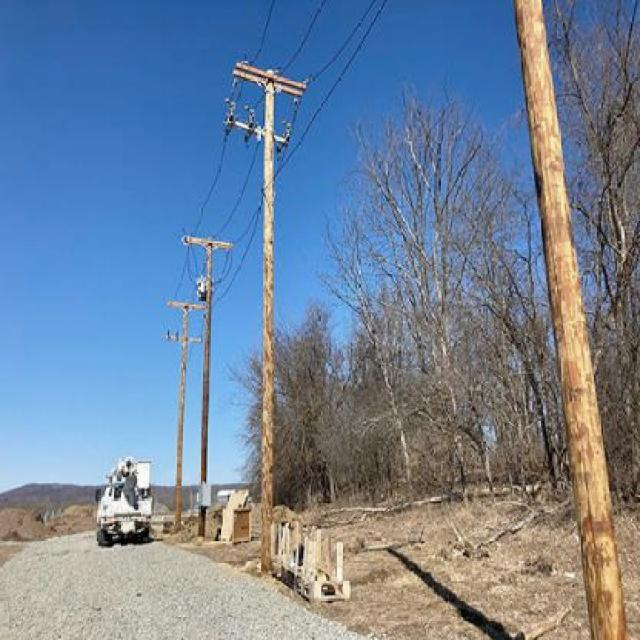crossarm: (232, 63, 308, 98)
pole: (515, 0, 629, 640), (263, 75, 277, 574)
wire: (209, 0, 392, 306), (165, 0, 276, 308), (208, 0, 330, 240)
